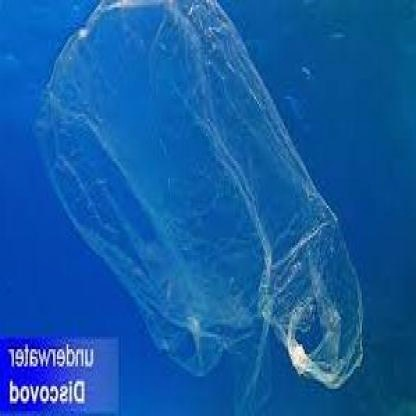pbag: (31, 2, 366, 389)
